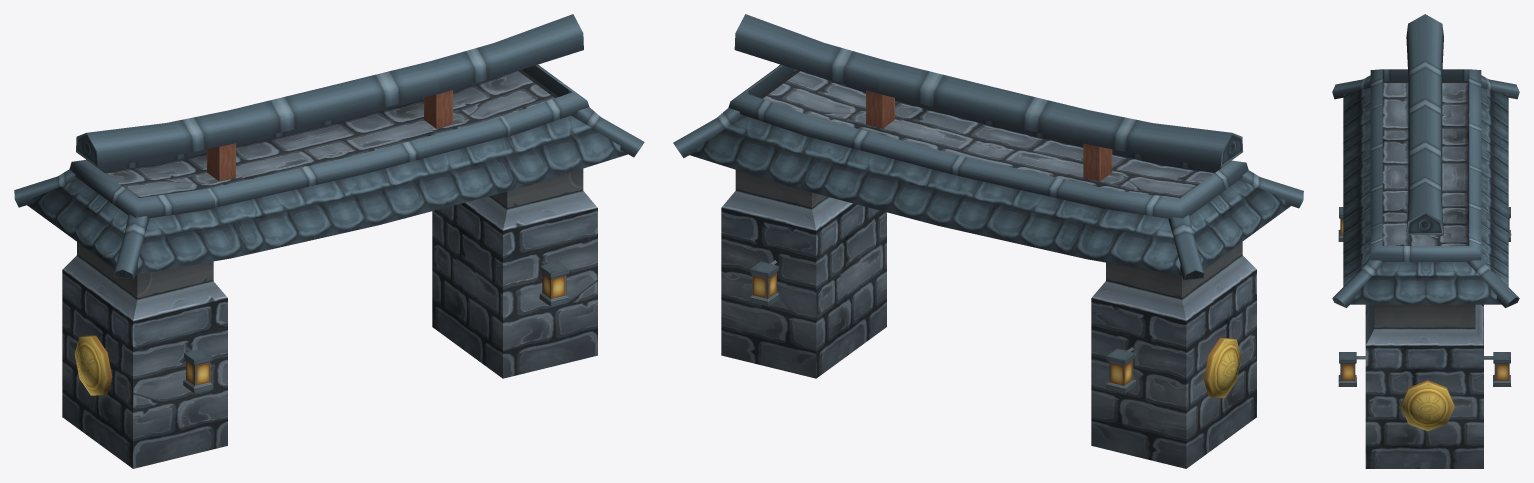
The model's file is castle_wall_up_02.fbx.
The picture shows the model from 3 angles, left to right: view 1: azimuth 30°, elevation 25°; view 2: azimuth 150°, elevation 25°; view 3: azimuth 270°, elevation 25°; orthographic projection. The views are drawn at different scales.
Visible parts, largest first — view 1: castle_wall_up_02; view 2: castle_wall_up_02; view 3: castle_wall_up_02.
Boxes of the visible parts, left/top/right/bottom form: castle_wall_up_02: left=14, top=14, right=644, bottom=468; castle_wall_up_02: left=673, top=14, right=1303, bottom=468; castle_wall_up_02: left=1332, top=14, right=1519, bottom=468.
Bounding box in the file's own units: 6.28 × 3.54 × 2.31.
1 material, 1 textured.
